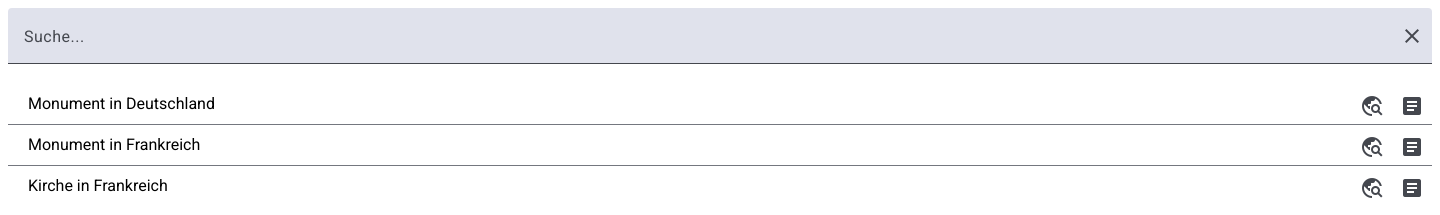
Test: CardListComponent › should work with loader
The image size is (1440, 215).
In the field labelled "Suche...": (706, 44) left=24, top=32, right=1388, bottom=56, type "Monument"
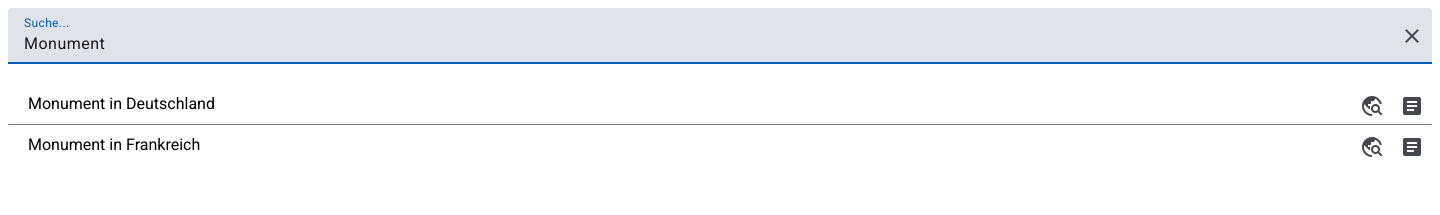
Expected: the element with test id "card-row" reads "Monument in Deutschland", left=28, top=94, right=215, bottom=113
Now the number of elements with test id "card-row" is 2, box left=8, top=84, right=1432, bottom=124; left=8, top=125, right=1432, bottom=165
